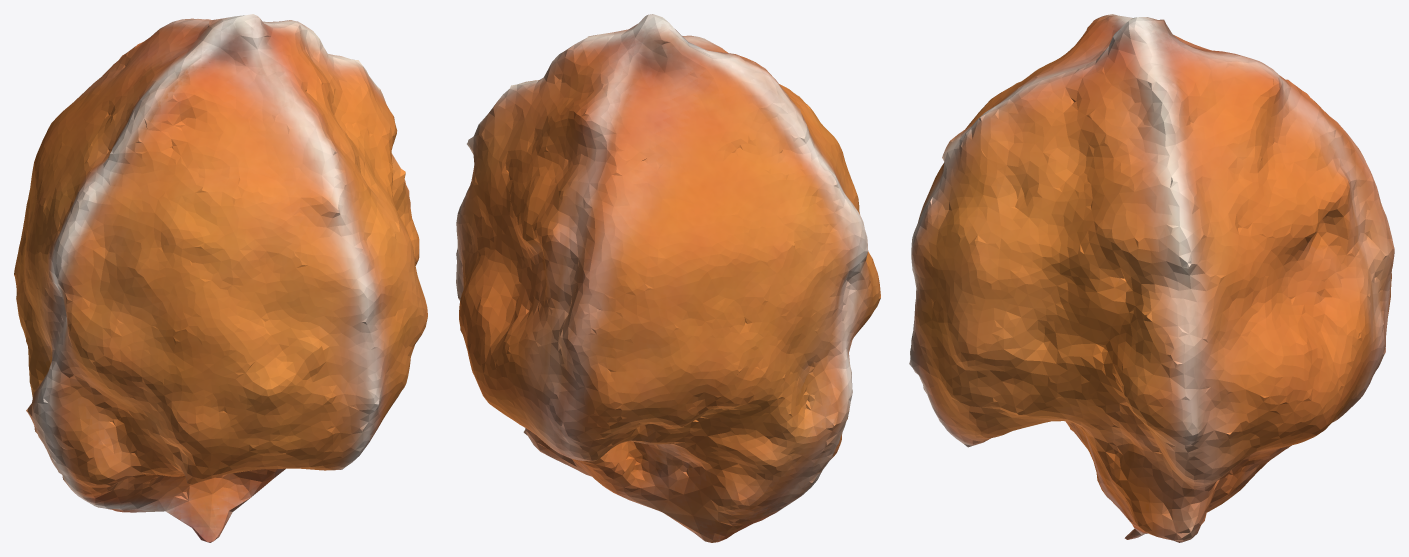
File: orange.fbx
3 renders of one model, left to right at view 1: azimuth 30°, elevation 25°; view 2: azimuth 150°, elevation 25°; view 3: azimuth 270°, elevation 25°, orthographic. The views are drawn at different scales.
Parts seen in each view (by area): view 1: 1474; view 2: 1474; view 3: 1474.
Boxes of the visible parts, x1,y1,x2,y2 form: 1474: [14, 14, 427, 542]; 1474: [456, 14, 880, 542]; 1474: [909, 14, 1394, 542].
Bounding box in the file's own units: 6 × 7.62 × 6.22.
Materials: 1 (1 with a texture image).
